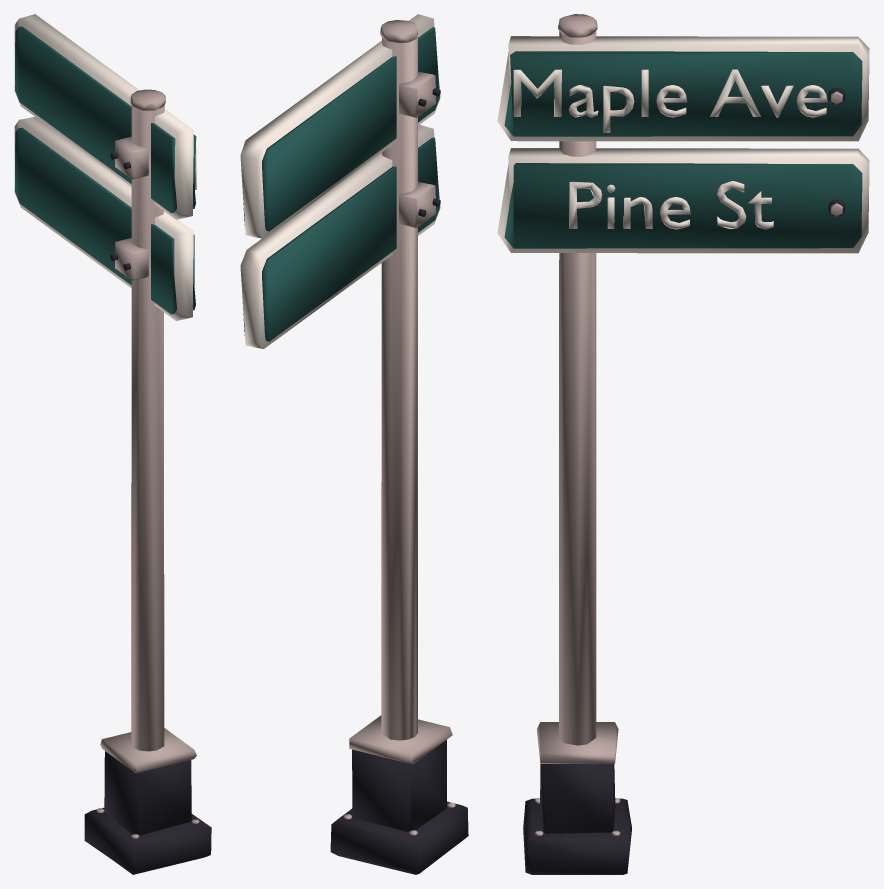
File: prop.street-sign.lod2.glb
The picture shows the model from 3 angles, left to right: view 1: azimuth 30°, elevation 25°; view 2: azimuth 150°, elevation 25°; view 3: azimuth 270°, elevation 25°; orthographic projection. The views are drawn at different scales.
Visible parts, largest first — view 1: object 2, body; view 2: object 2, body; view 3: object 2, body.
Part boxes in pixels (x1,y1,x2,y2): object 2: (14,14,211,874); body: (96,89,199,838); object 2: (240,14,468,874); body: (343,20,455,835); object 2: (497,36,869,874); body: (535,14,842,835).
Bounding box in the file's own units: 0.34 × 2.87 × 1.16.
